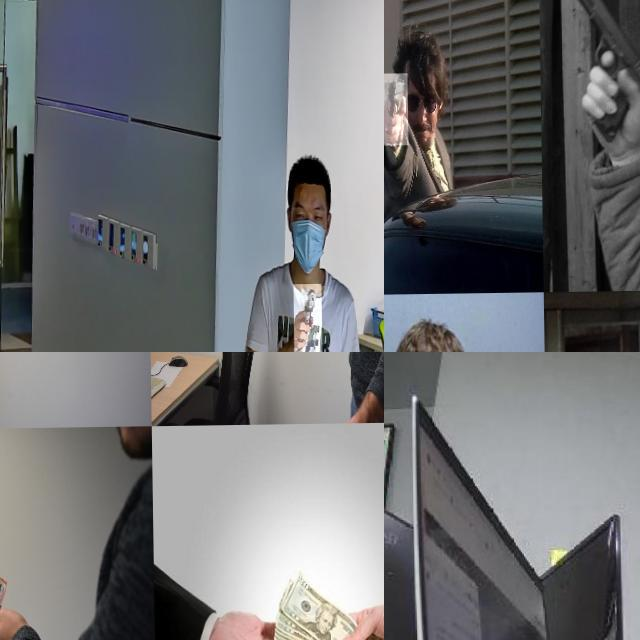gun-knife-thesis - v11 Yolov5 augmented: (559, 0, 640, 154), (292, 284, 321, 352), (384, 74, 407, 146)
